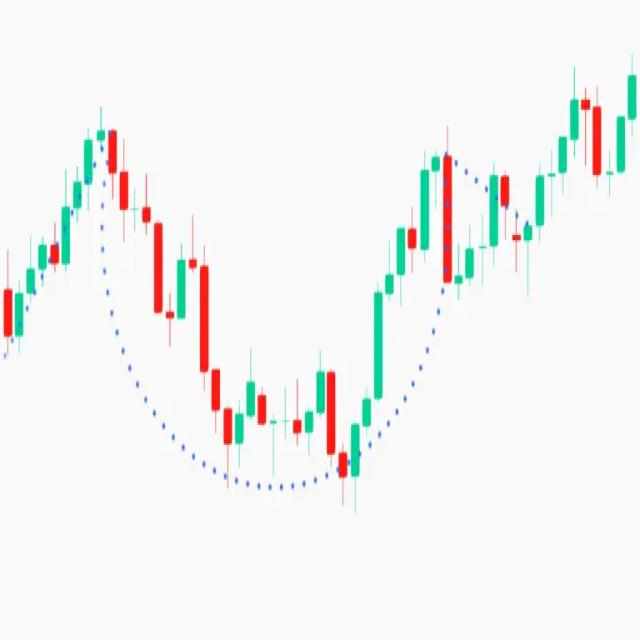Cup-and-handle: (94, 80, 511, 537)
